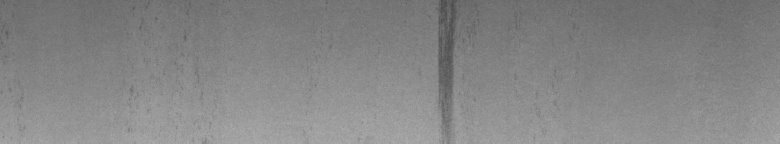hd: (433, 4, 463, 128)
